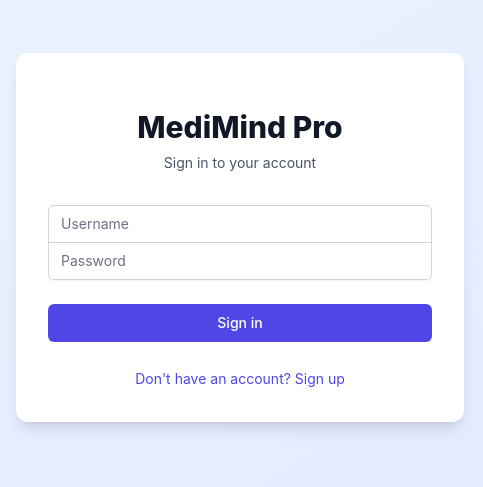
Test: Login Component › switches between login and register
Click the button "Don't have an account? Sign up" at (240, 378), box top-left (135, 368), bottom-right (345, 388)
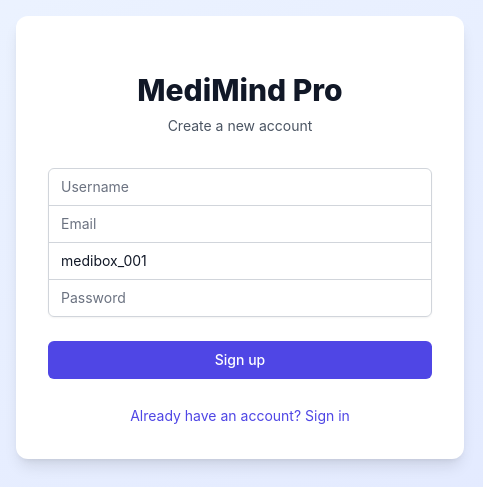
Result: the field with placeholder "Email" is shown at top-left (48, 204), bottom-right (432, 242)
Result: the field with placeholder "Device ID (e.g: medibox_001)" is shown at top-left (48, 242), bottom-right (432, 280)
